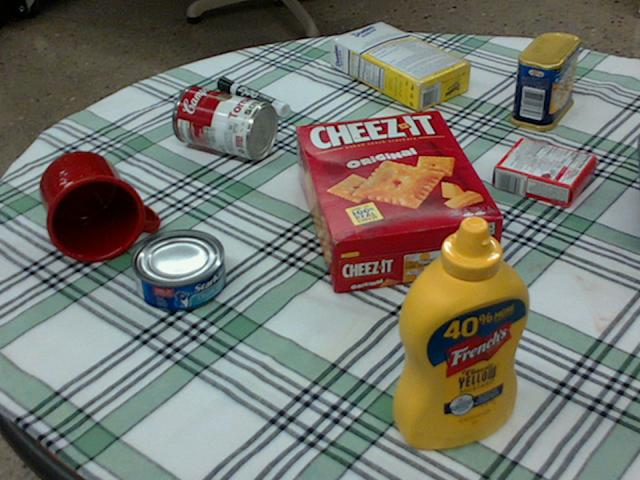cracker_box: (298, 110, 504, 290)
gelatin_box: (492, 137, 593, 204)
large_marker: (216, 77, 288, 116)
master_chef_can: (633, 129, 639, 190)
mug: (38, 151, 156, 261)
mustard_bottle: (394, 214, 531, 447)
potted_meat_can: (509, 32, 578, 130)
sugar_box: (331, 22, 473, 110)
tomato_soup_can: (171, 84, 277, 158)
tuna_fish_can: (128, 228, 224, 310)
